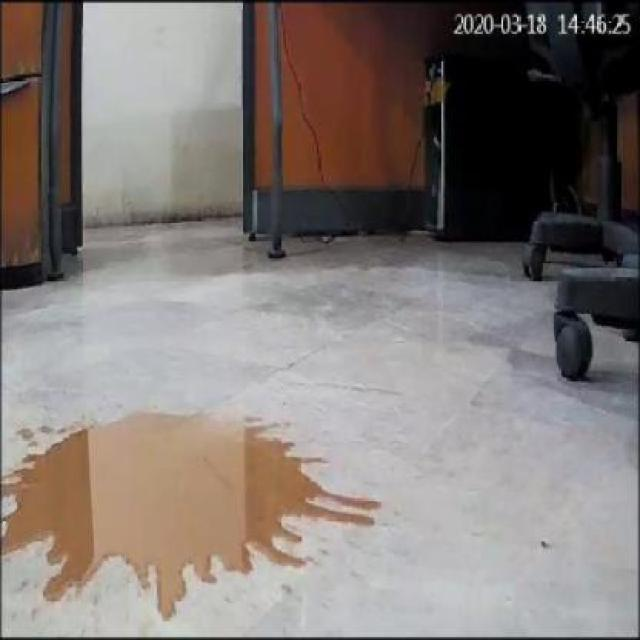spillage: (3, 414, 380, 620)
